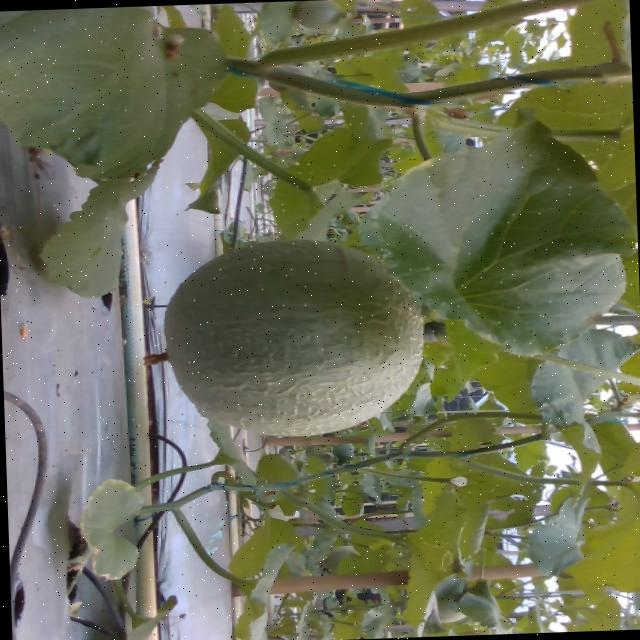melon: (164, 241, 421, 435)
